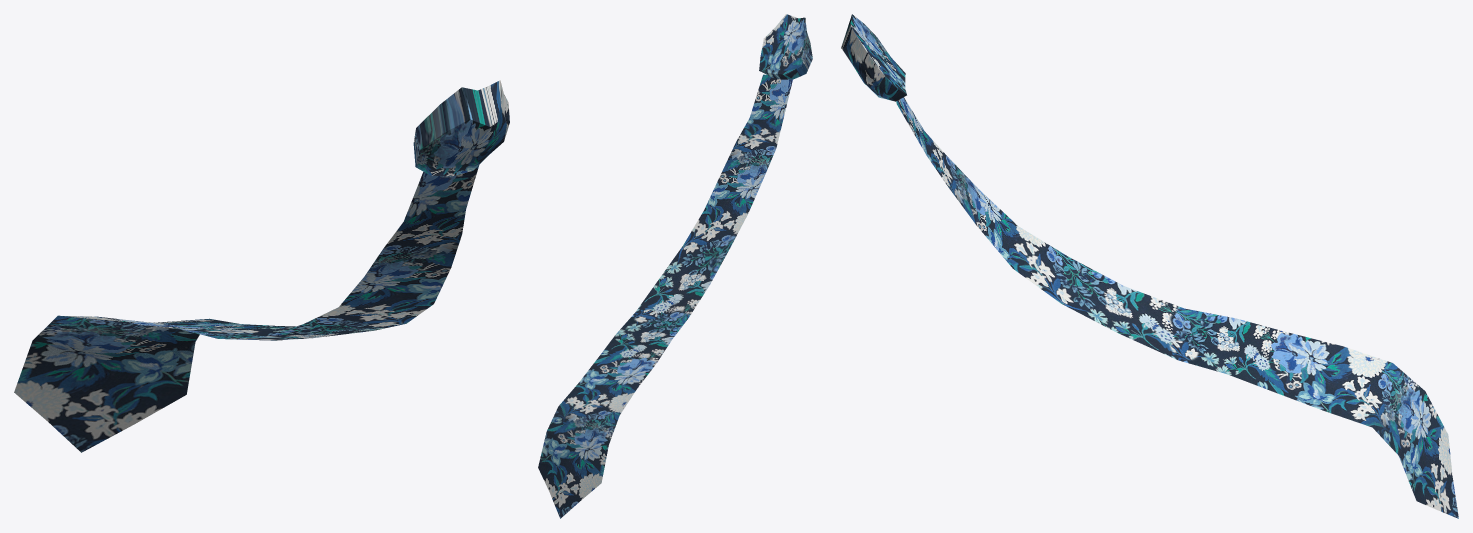
Rendered from Pose-8_SuitTie-2.fbx.
3 views of the same model, side by side, from view 1: azimuth 30°, elevation 25°; view 2: azimuth 150°, elevation 25°; view 3: azimuth 270°, elevation 25° (orthographic). The views are drawn at different scales.
Visible parts, largest first — view 1: Pose-8_SuitTie-2; view 2: Pose-8_SuitTie-2; view 3: Pose-8_SuitTie-2.
Part boxes in pixels (x1,y1,x2,y2): Pose-8_SuitTie-2: (14,80,509,452); Pose-8_SuitTie-2: (538,14,812,518); Pose-8_SuitTie-2: (841,14,1458,518).
Bounding box in the file's own units: 7.12 × 29.95 × 34.49.
